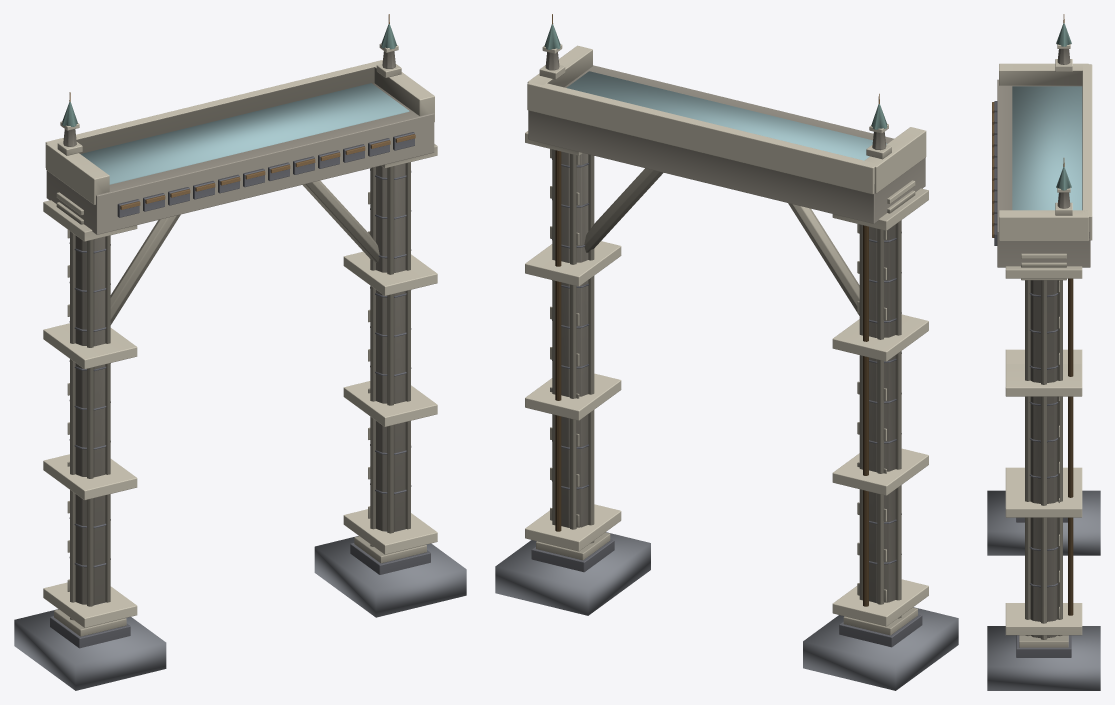
Rendered from aqueduct-source.glb.
3 renders of one model, left to right at view 1: azimuth 30°, elevation 25°; view 2: azimuth 150°, elevation 25°; view 3: azimuth 270°, elevation 25°, orthographic. The views are drawn at different scales.
Parts seen in each view (by area): view 1: aqueduct-source__pale, aqueduct-source__limestone, aqueduct-source__rock_dark, aqueduct-source__water, aqueduct-source__shadow, aqueduct-source__bronze; view 2: aqueduct-source__pale, aqueduct-source__limestone, aqueduct-source__rock_dark, aqueduct-source__water, aqueduct-source__bronze, aqueduct-source__shadow; view 3: aqueduct-source__pale, aqueduct-source__limestone, aqueduct-source__rock_dark, aqueduct-source__water, aqueduct-source__bronze, aqueduct-source__shadow, aqueduct-source__copper.
Part boxes in pixels (x1,y1,x2,y2): aqueduct-source__pale: (43,43,437,636); aqueduct-source__limestone: (46,51,434,604); aqueduct-source__rock_dark: (14,536,466,690); aqueduct-source__water: (80,83,409,184); aqueduct-source__shadow: (50,132,430,648); aqueduct-source__bronze: (69,14,415,209); aqueduct-source__pale: (525,44,928,635); aqueduct-source__limestone: (528,52,925,602); aqueduct-source__rock_dark: (495,532,958,690); aqueduct-source__water: (566,71,886,160); aqueduct-source__bronze: (552,14,879,606); aqueduct-source__shadow: (531,159,922,647); aqueduct-source__pale: (999,44,1092,647); aqueduct-source__limestone: (997,49,1090,638); aqueduct-source__rock_dark: (987,490,1100,690); aqueduct-source__water: (1012,86,1082,210); aqueduct-source__bronze: (992,14,1073,615); aqueduct-source__shadow: (994,101,1071,657); aqueduct-source__copper: (1056,23,1071,190).
Bounding box in the file's own units: 125 × 171 × 34.
